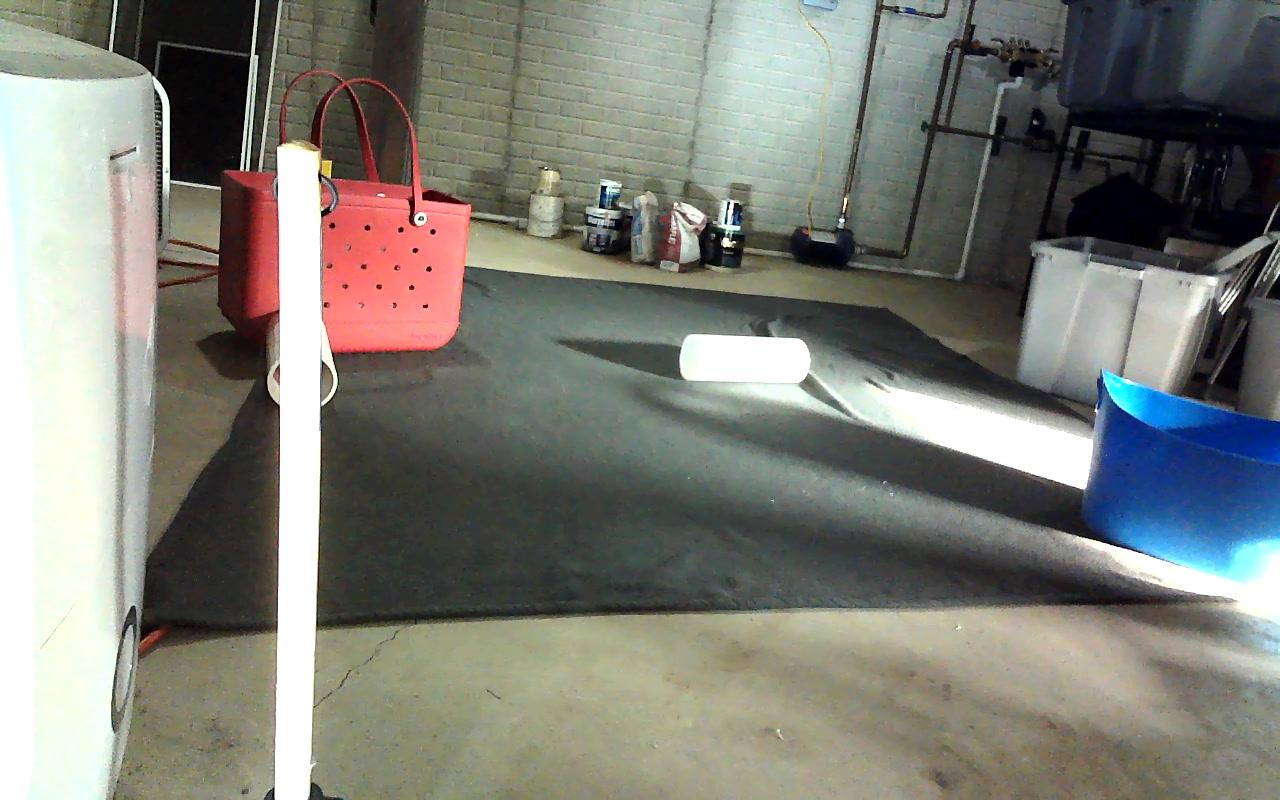coral: (680, 332, 811, 386), (267, 311, 338, 409)
